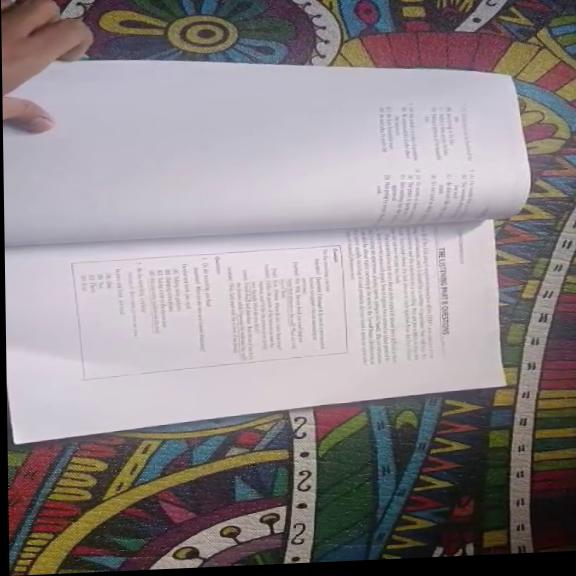Kertas: (5, 221, 503, 443), (3, 61, 529, 246)
